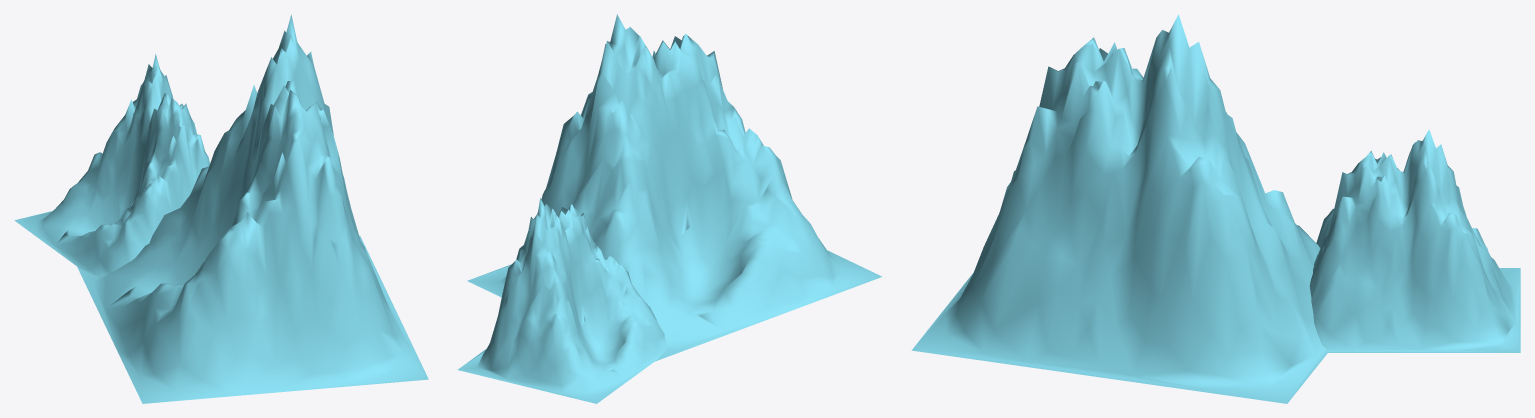
Rendered from icemountain.glb.
3 renders of one model, left to right at view 1: azimuth 30°, elevation 25°; view 2: azimuth 150°, elevation 25°; view 3: azimuth 270°, elevation 25°, orthographic. The views are drawn at different scales.
Visible parts, largest first — view 1: Landscape.001, Landscape; view 2: Landscape.001, Landscape; view 3: Landscape.001, Landscape.
Part boxes in pixels (x1,y1,x2,y2): Landscape.001: [77, 14, 428, 403]; Landscape: [14, 54, 209, 277]; Landscape.001: [467, 14, 882, 361]; Landscape: [458, 198, 666, 403]; Landscape.001: [911, 14, 1327, 403]; Landscape: [1309, 129, 1520, 352].
Bounding box in the file's own units: 235 × 191 × 324.
